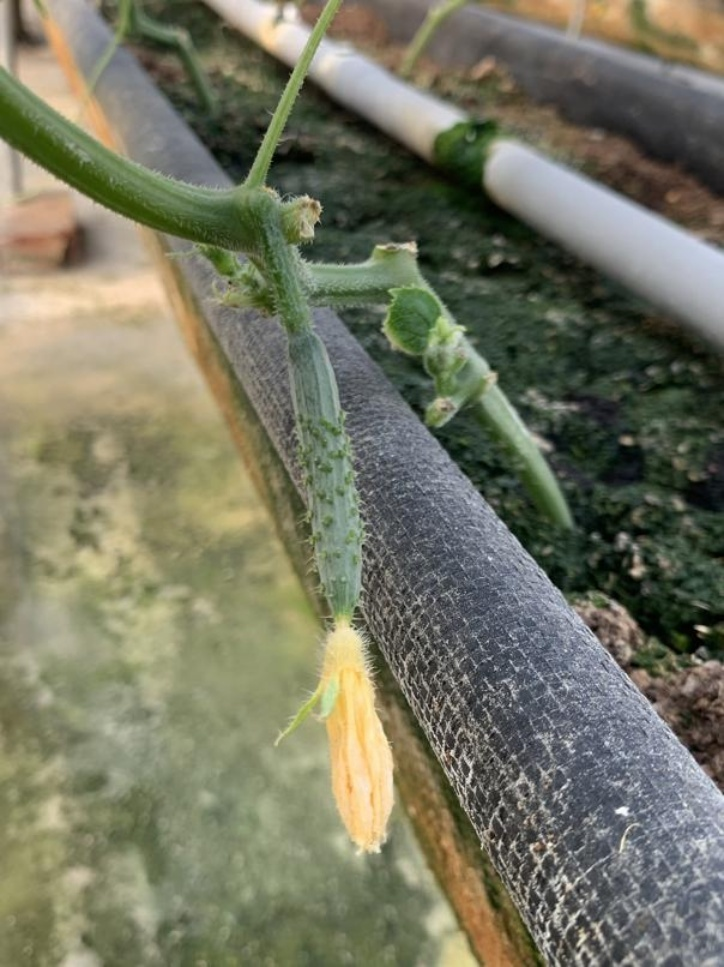bear: (263, 319, 413, 870)
